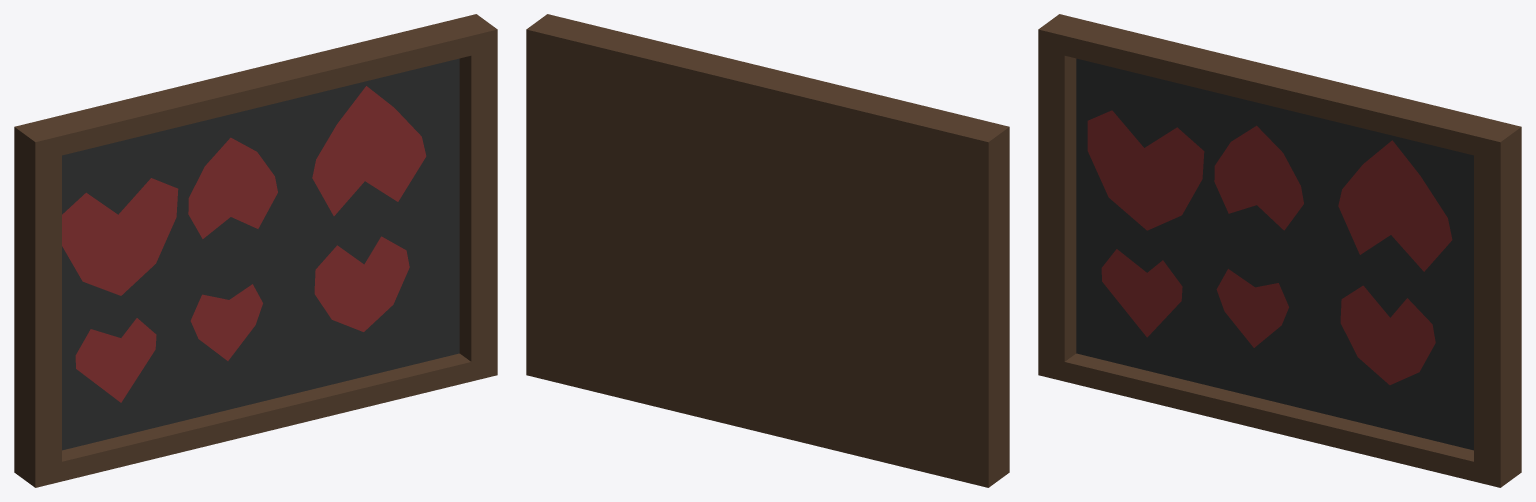
File: painting5.fbx
The picture shows the model from 3 angles, left to right: view 1: azimuth 30°, elevation 25°; view 2: azimuth 150°, elevation 25°; view 3: azimuth 330°, elevation 25°; orthographic projection.
Visible parts, largest first — view 1: pCube3; view 2: pCube3; view 3: pCube3.
Boxes of the visible parts, <box> form: pCube3: <box>14,14,497,487</box>; pCube3: <box>526,14,1009,487</box>; pCube3: <box>1038,14,1521,487</box>.
Size of the model in its own units: 6.1 by 4.36 by 0.4838.
